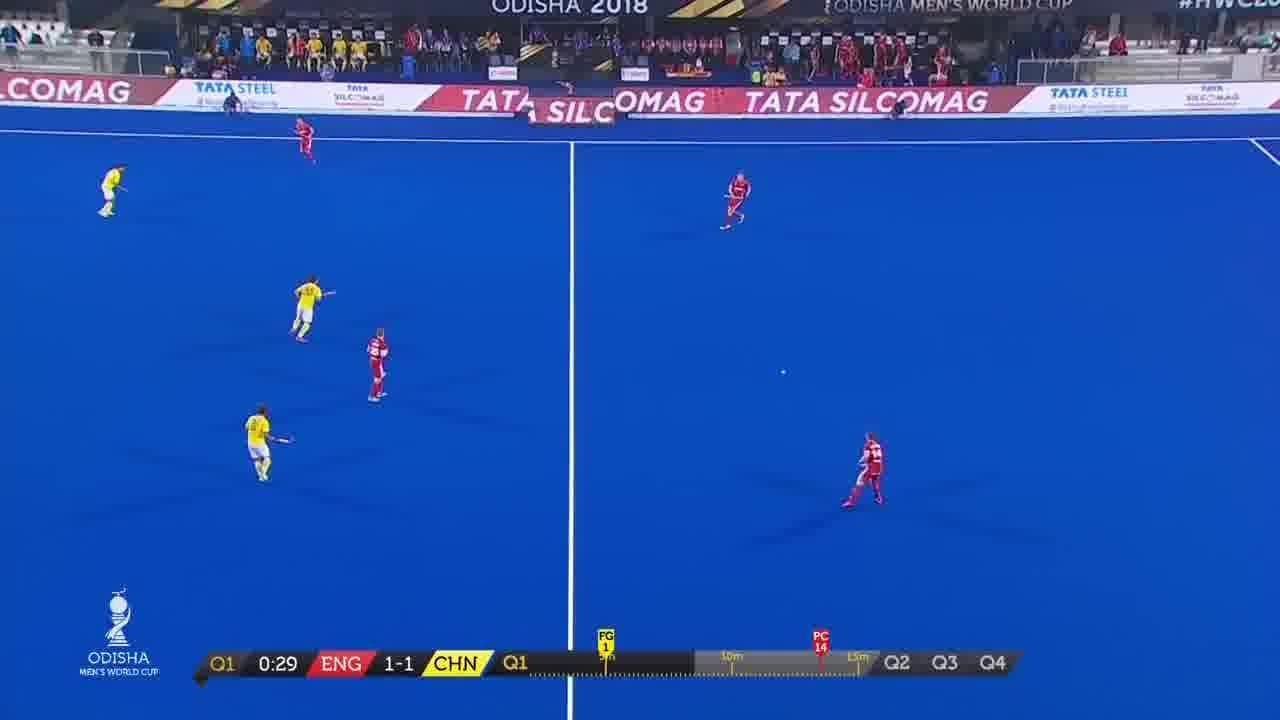ball: (774, 363, 794, 382)
